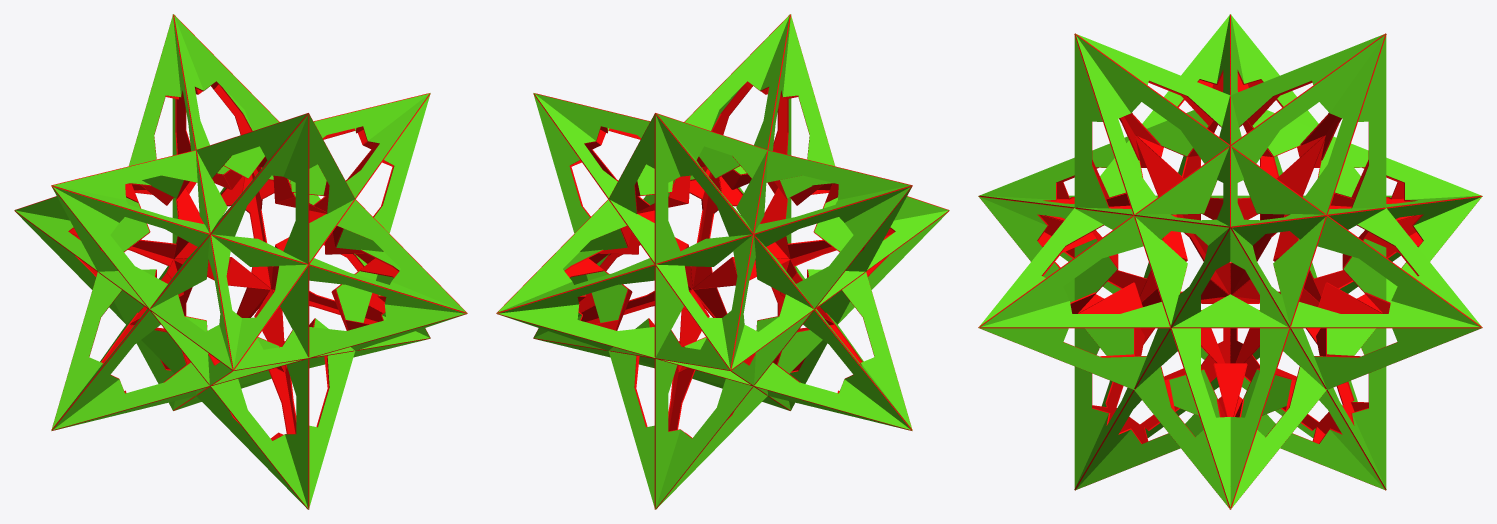
File: GreatIcosahedronS2.glb
3 views of the same model, side by side, from view 1: azimuth 30°, elevation 25°; view 2: azimuth 150°, elevation 25°; view 3: azimuth 270°, elevation 25° (orthographic). The views are drawn at different scales.
Parts seen in each view (by area): view 1: Mesh_0; view 2: Mesh_0; view 3: Mesh_0.
Part boxes in pixels (<box>): Mesh_0: <box>14,14,467,509</box>; Mesh_0: <box>496,14,949,509</box>; Mesh_0: <box>978,14,1482,509</box>.
Size of the model in its own units: 7.5 by 7.5 by 7.5.
